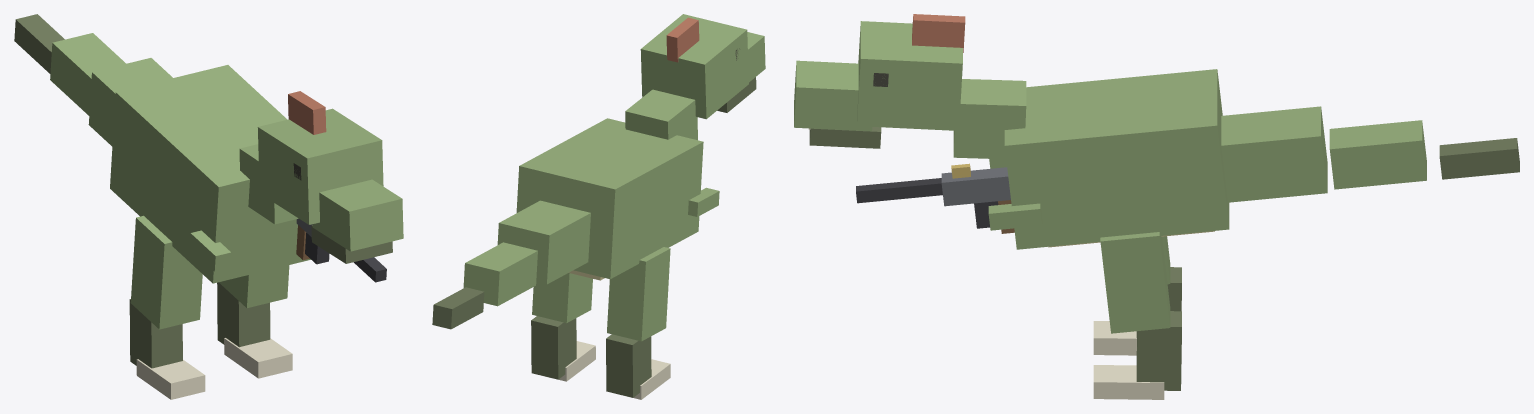
File: dino.glb
3 views of the same model, side by side, from view 1: azimuth 30°, elevation 25°; view 2: azimuth 150°, elevation 25°; view 3: azimuth 270°, elevation 25° (orthographic). The views are drawn at different scales.
Visible parts, largest first — view 1: DinoBody, DinoSkull, DinoThighMeshL, DinoSnout, DinoTail2, DinoTail1, DinoShinMeshR, DinoShinMeshL, DinoFootL, DinoThighMeshR, DinoFootR, DinoTail3 (+6 smaller); view 2: DinoBody, DinoSkull, DinoTail1, DinoThighMeshL, DinoTail2, DinoNeckMesh, DinoShinMeshR, DinoShinMeshL, DinoThighMeshR, DinoTail3, DinoCrest, DinoSnout (+4 smaller); view 3: DinoBody, DinoSkull, DinoTail1, DinoThighMeshR, DinoTail2, DinoNeckMesh, DinoSnout, DinoTail3, DinoShinMeshR, DinoGunReceiver, DinoFootR, DinoCrest (+4 smaller).
Boxes of the visible parts, bbox=[...] form: DinoBody: bbox=[110, 65, 310, 283]; DinoSkull: bbox=[257, 108, 383, 224]; DinoThighMeshL: bbox=[130, 215, 202, 329]; DinoSnout: bbox=[312, 179, 403, 251]; DinoTail2: bbox=[50, 33, 125, 115]; DinoTail1: bbox=[88, 58, 172, 146]; DinoShinMeshR: bbox=[217, 282, 270, 347]; DinoShinMeshL: bbox=[129, 299, 182, 368]; DinoFootL: bbox=[136, 359, 205, 399]; DinoThighMeshR: bbox=[219, 265, 289, 307]; DinoFootR: bbox=[224, 338, 292, 378]; DinoTail3: bbox=[14, 14, 64, 73]; DinoBody: bbox=[516, 118, 703, 279]; DinoSkull: bbox=[640, 14, 748, 119]; DinoTail1: bbox=[497, 200, 590, 284]; DinoThighMeshL: bbox=[607, 247, 670, 341]; DinoTail2: bbox=[463, 242, 537, 306]; DinoNeckMesh: bbox=[625, 89, 697, 140]; DinoShinMeshR: bbox=[531, 316, 576, 379]; DinoShinMeshL: bbox=[606, 334, 651, 397]; DinoThighMeshR: bbox=[532, 273, 592, 323]; DinoTail3: bbox=[432, 287, 484, 329]; DinoCrest: bbox=[666, 17, 699, 62]; DinoSnout: bbox=[747, 32, 765, 82]; DinoBody: bbox=[1004, 69, 1229, 249]; DinoSkull: bbox=[857, 21, 962, 130]; DinoTail1: bbox=[1221, 106, 1327, 202]; DinoThighMeshR: bbox=[1100, 232, 1170, 333]; DinoTail2: bbox=[1329, 120, 1426, 189]; DinoNeckMesh: bbox=[953, 79, 1026, 159]; DinoSnout: bbox=[794, 60, 872, 131]; DinoTail3: bbox=[1439, 138, 1519, 179]; DinoShinMeshR: bbox=[1136, 311, 1181, 390]; DinoGunReceiver: bbox=[941, 167, 1010, 206]; DinoFootR: bbox=[1093, 365, 1164, 399]; DinoCrest: bbox=[912, 14, 965, 52].
Size of the model in its own units: 0.86 by 2.09 by 3.9.
